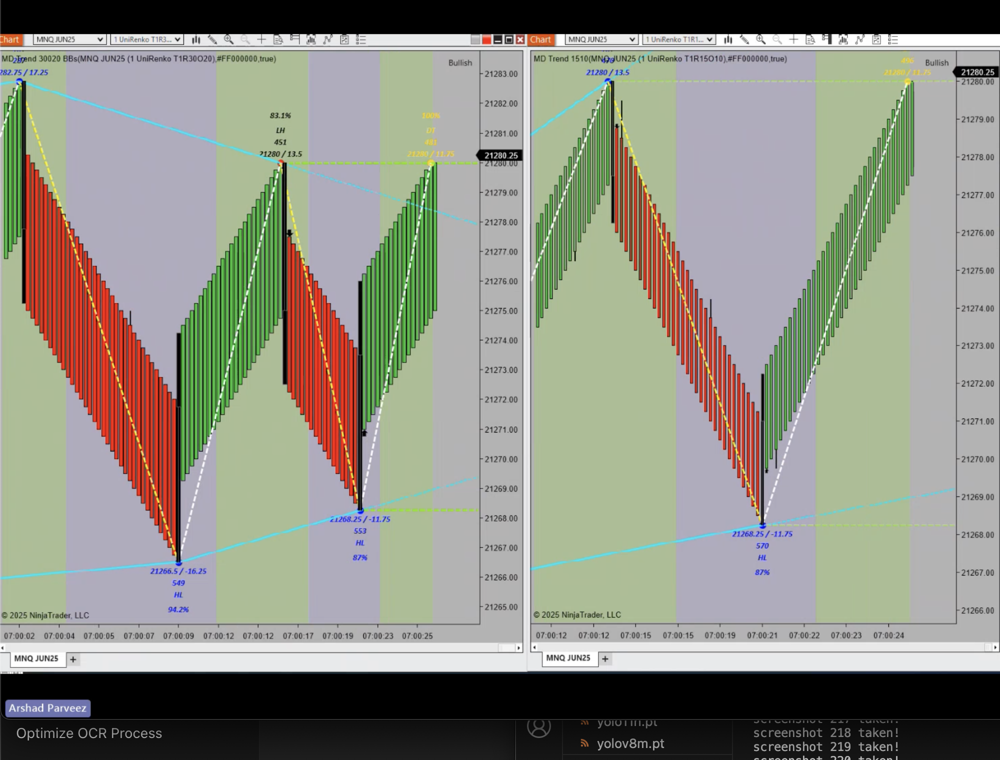HL: (753, 546, 774, 566), (348, 539, 376, 553), (169, 586, 188, 606)
LH: (273, 123, 293, 140)
